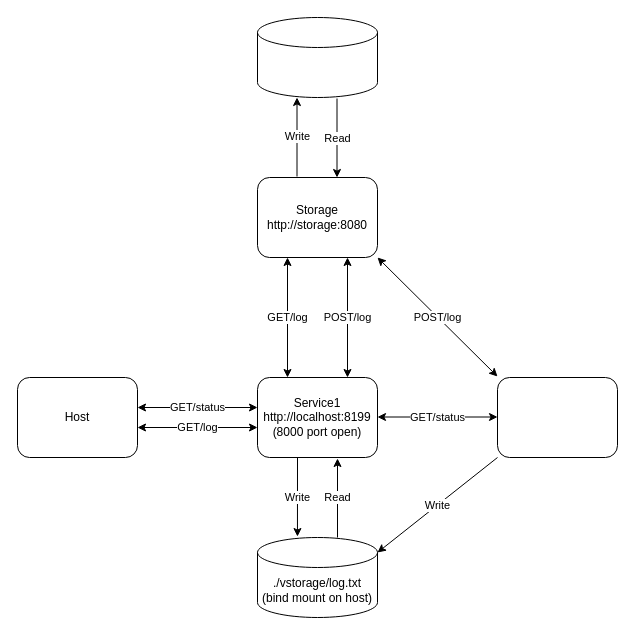
This 635x635 diagram has some shape labels left out. Here are the shapes that lost their labels. From the top down, the box of each, then its label:
(256, 16, 378, 98): storage:/data/log.txt (named volume)
(496, 376, 618, 458): Service2 http://service2:3000
